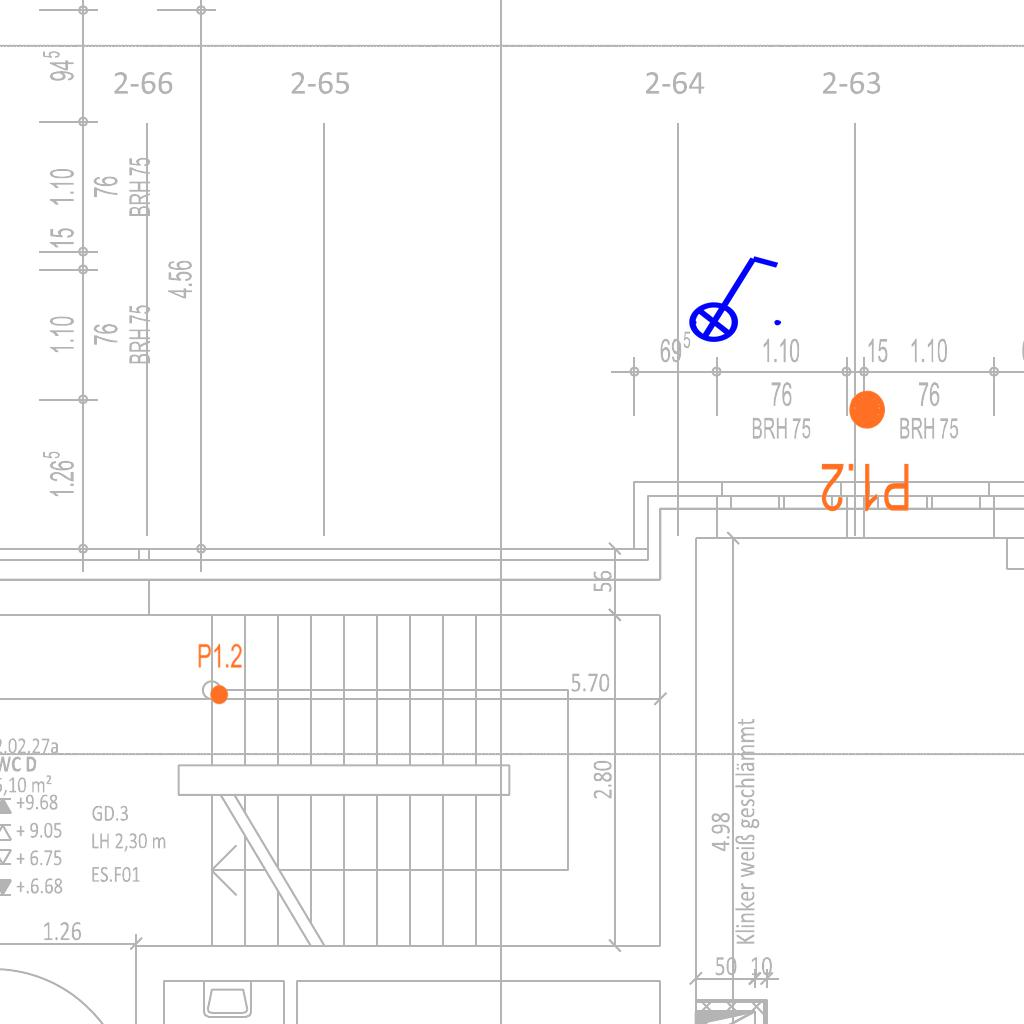Ausschalter_beleuchtet: (675, 248, 787, 344)
Downlight_LED_Einbauleuchten_Flur: (819, 387, 912, 515), (197, 642, 243, 706)
